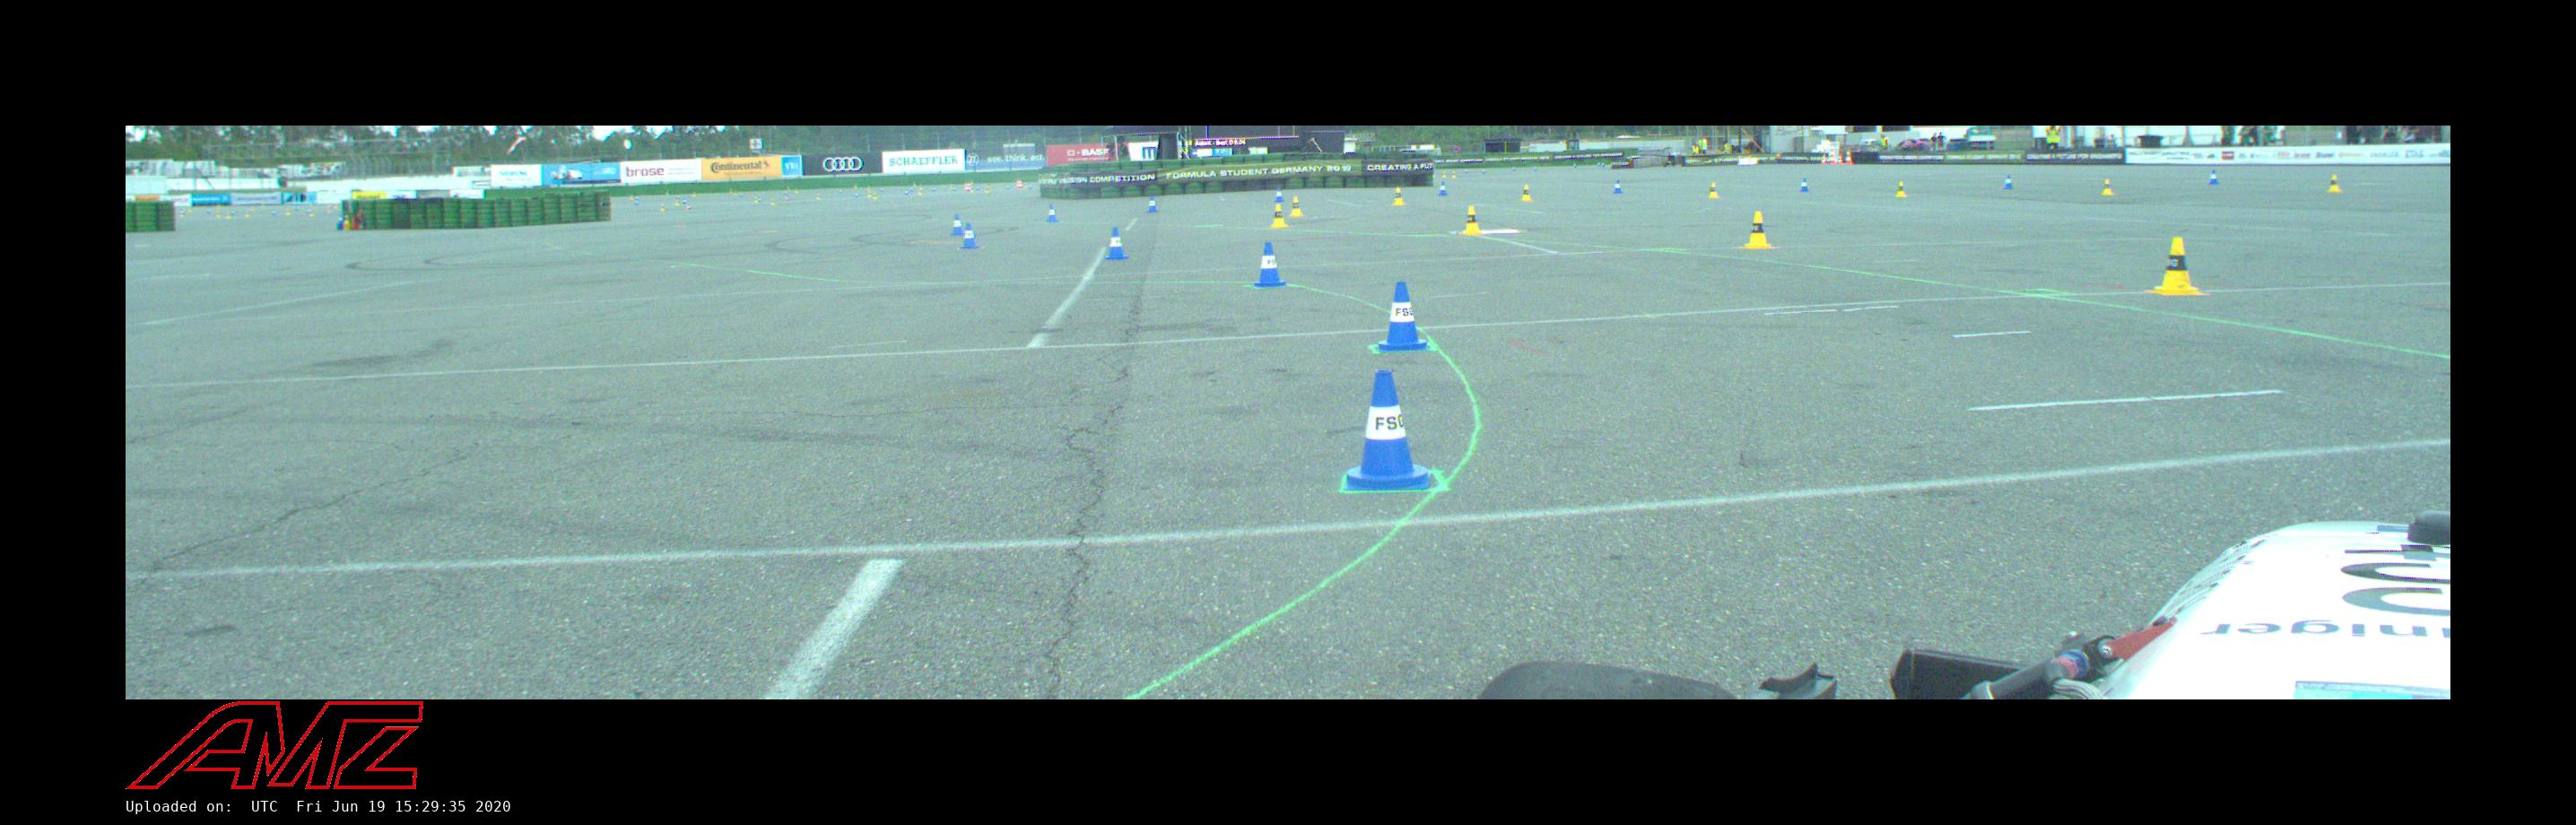blue_cone: (1341, 371, 1436, 490), (1378, 281, 1429, 350), (1255, 243, 1286, 286), (1104, 227, 1129, 260), (961, 224, 979, 248), (951, 214, 964, 235), (1046, 204, 1058, 222), (1147, 196, 1158, 212), (2208, 169, 2219, 184), (1275, 186, 1285, 202), (1439, 181, 1449, 196), (1613, 179, 1623, 194), (1799, 177, 1809, 192), (2004, 174, 2014, 189)
yellow_cone: (2154, 237, 2200, 296), (1743, 212, 1773, 248), (1460, 207, 1482, 235), (1272, 204, 1288, 228), (1391, 186, 1406, 205), (1290, 196, 1303, 217), (2326, 174, 2341, 192), (1521, 184, 1533, 200), (2101, 179, 2113, 194), (1709, 182, 1718, 199), (1896, 182, 1906, 197)
